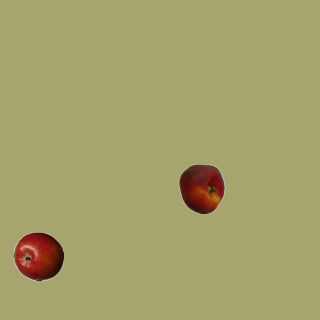Apple Braeburn: (13, 231, 63, 281)
Nectarine Flat: (176, 163, 226, 213)
